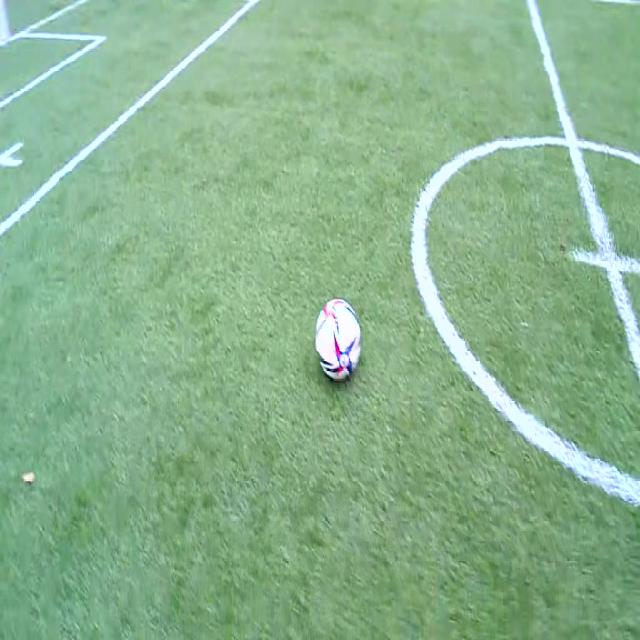ball: (316, 298, 360, 381)
